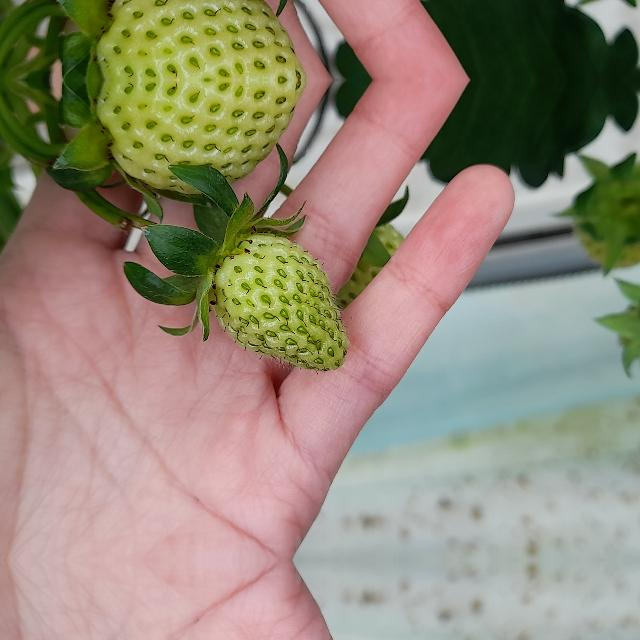Health_25: (92, 82, 302, 188), (208, 232, 348, 372), (92, 0, 301, 78)
